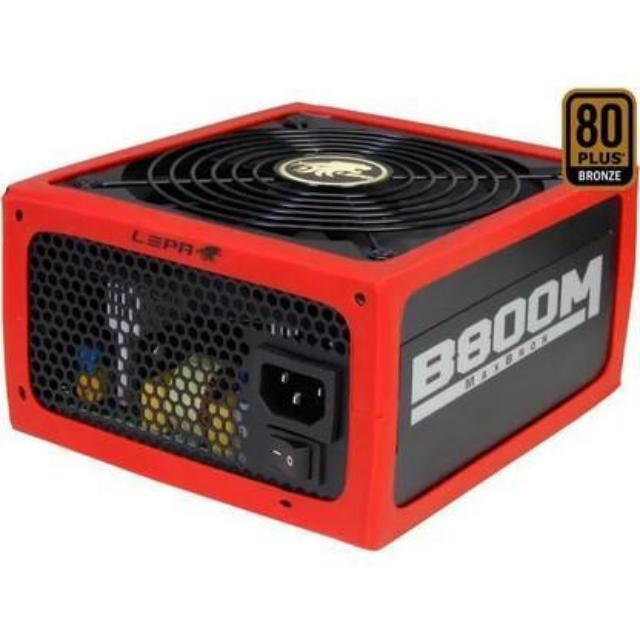PSU: (0, 82, 640, 558)
